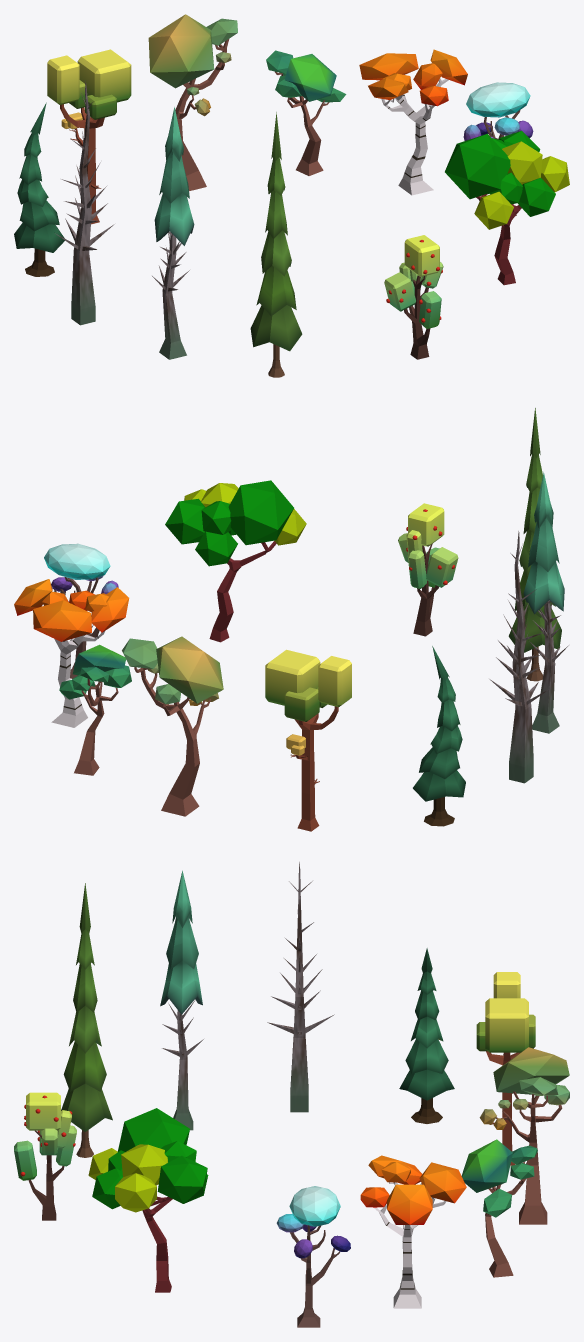
Rendered from CircleOfThrees.glb.
3 renders of one model, top to bottom at view 1: azimuth 30°, elevation 25°; view 2: azimuth 150°, elevation 25°; view 3: azimuth 270°, elevation 25°, orthographic. The views are drawn at different scales.
Visible parts, largest first — view 1: bonsai, cube tree, birch, pine _Material.010_0, Icosphere.001, semi deth pine, fruit cube tree, dark pine, bonsai 2, deth pine, sky tree, Icosphere.008 (+2 smaller); view 2: bonsai, cube tree, Icosphere.001, birch, semi deth pine, dark pine, fruit cube tree, deth pine, bonsai 2, pine _Material.010_0, sky tree, Cube (+2 smaller); view 3: birch, pine _Material.010_0, bonsai, Icosphere.001, semi deth pine, cube tree, dark pine, fruit cube tree, bonsai 2, sky tree, deth pine, Icosphere.008 (+1 smaller).
Part boxes in pixels (<box>): bonsai: <box>148,14,237,191</box>; cube tree: <box>47,49,131,224</box>; birch: <box>359,49,467,195</box>; pine _Material.010_0: <box>250,112,302,351</box>; Icosphere.001: <box>445,130,555,216</box>; semi deth pine: <box>152,107,194,359</box>; fruit cube tree: <box>384,235,443,359</box>; dark pine: <box>14,102,64,276</box>; bonsai 2: <box>266,50,346,175</box>; deth pine: <box>55,80,114,325</box>; sky tree: <box>463,82,533,215</box>; Icosphere.008: <box>502,141,569,192</box>; bonsai: <box>122,636,223,816</box>; cube tree: <box>265,649,351,831</box>; Icosphere.001: <box>165,480,293,566</box>; birch: <box>14,579,129,727</box>; semi deth pine: <box>523,472,568,733</box>; dark pine: <box>413,646,465,826</box>; fruit cube tree: <box>398,503,458,636</box>; deth pine: <box>489,531,550,783</box>; bonsai 2: <box>59,644,131,775</box>; pine _Material.010_0: <box>508,408,561,652</box>; sky tree: <box>44,543,118,678</box>; Cube: <box>209,541,276,642</box>; birch: <box>360,1155,466,1308</box>; pine _Material.010_0: <box>61,883,112,1131</box>; bonsai: <box>479,1047,569,1224</box>; Icosphere.001: <box>92,1108,208,1209</box>; semi deth pine: <box>160,870,203,1130</box>; cube tree: <box>476,972,535,1165</box>; dark pine: <box>399,948,454,1123</box>; fruit cube tree: <box>14,1092,76,1220</box>; bonsai 2: <box>461,1139,537,1277</box>; sky tree: <box>276,1186,350,1327</box>; deth pine: <box>267,862,334,1112</box>; Icosphere.008: <box>115,1144,167,1212</box>.
Size of the model in its own units: 21.48 by 11.21 by 20.72.
24 materials, 10 textured.
